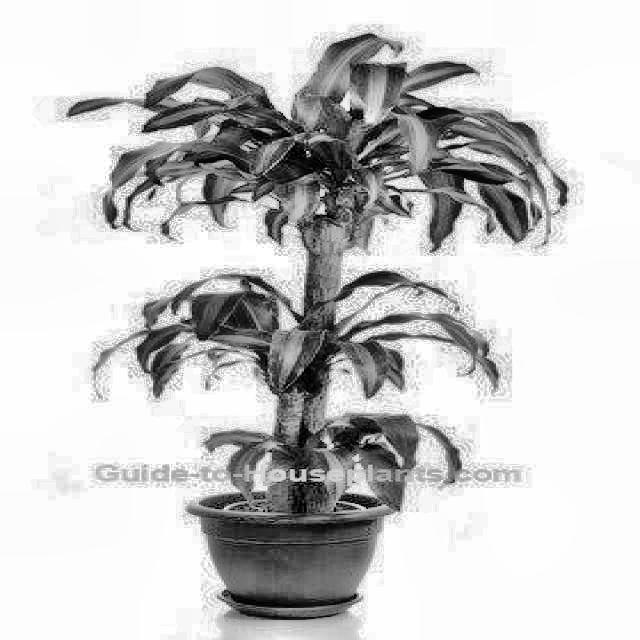plants: (56, 29, 560, 456)
